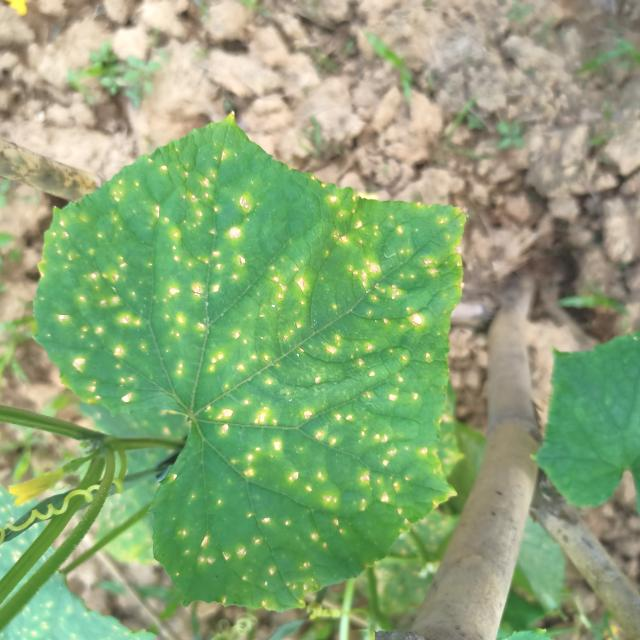disease_cucumber: (39, 147, 448, 609)
